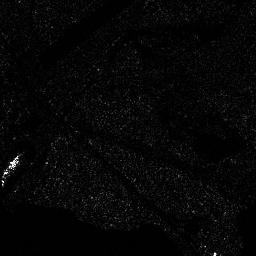ship: (1, 154, 22, 186)
